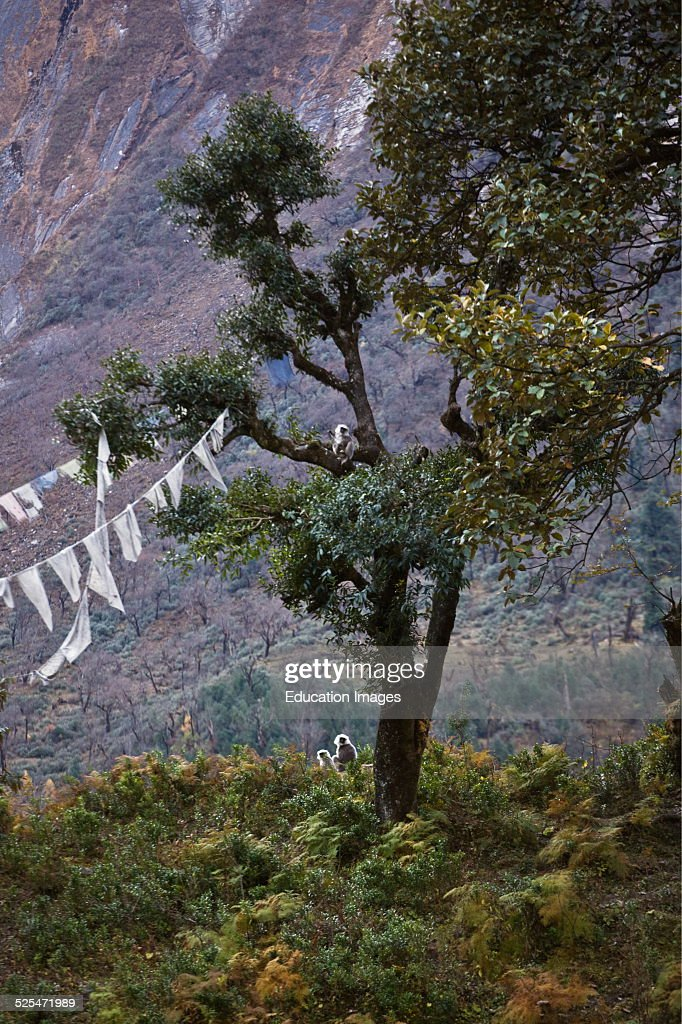monkey: (324, 723, 367, 777), (319, 421, 362, 471), (311, 747, 343, 780)
